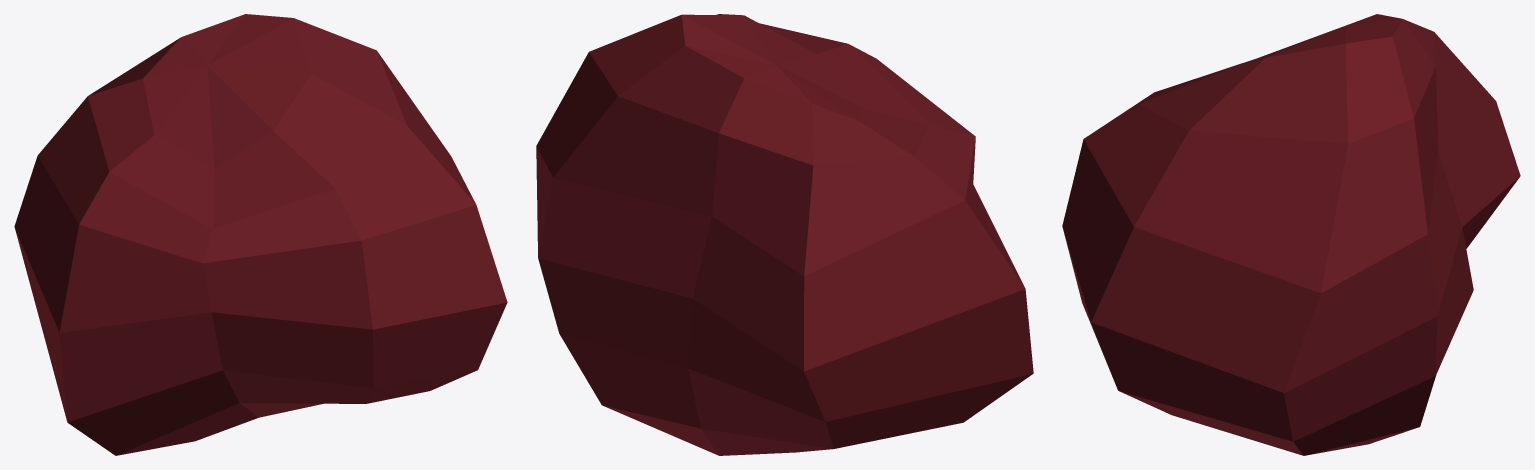
File: gib01.glb
The picture shows the model from 3 angles, left to right: view 1: azimuth 30°, elevation 25°; view 2: azimuth 150°, elevation 25°; view 3: azimuth 270°, elevation 25°; orthographic projection. The views are drawn at different scales.
Visible parts, largest first — view 1: gib01; view 2: gib01; view 3: gib01.
Boxes of the visible parts, x1,y1,x2,y2 form: gib01: (14, 14, 507, 455); gib01: (536, 14, 1033, 455); gib01: (1062, 14, 1520, 455).
Size of the model in its own units: 1.89 by 1.62 by 1.68.
